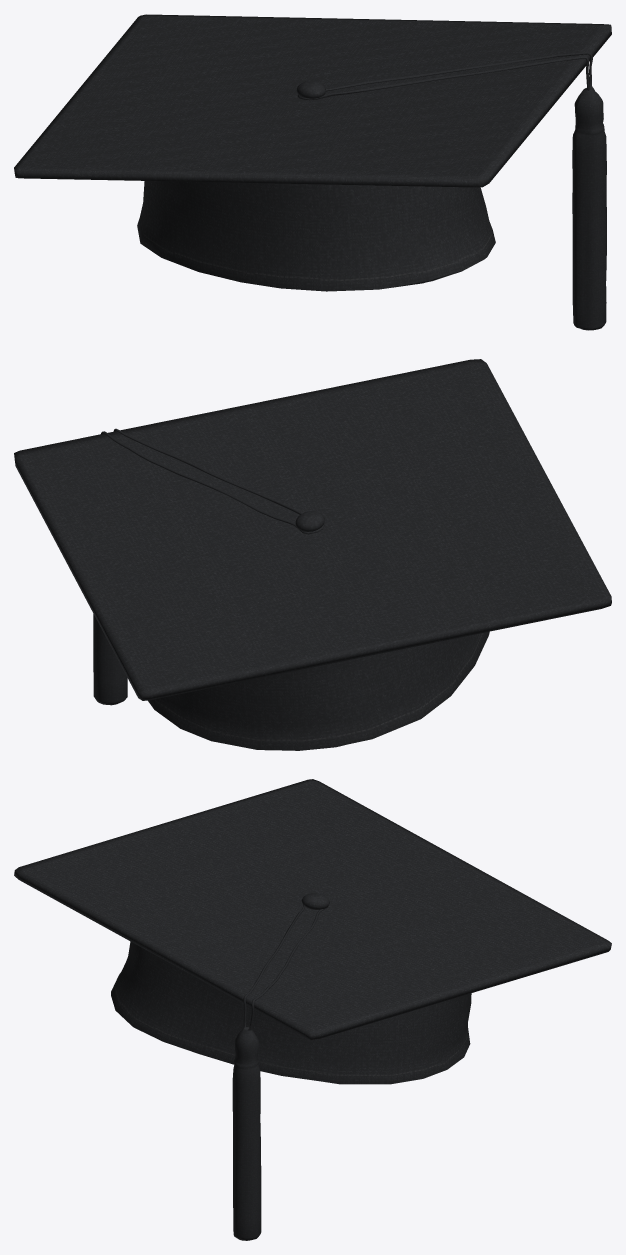
File: cap.glb
3 renders of one model, top to bottom at view 1: azimuth 30°, elevation 25°; view 2: azimuth 150°, elevation 25°; view 3: azimuth 270°, elevation 25°, orthographic. The views are drawn at different scales.
Visible parts, largest first — view 1: Button; view 2: Button; view 3: Button.
Part boxes in pixels (x1,y1,x2,y2): Button: (14, 14, 611, 330); Button: (14, 359, 611, 750); Button: (14, 779, 611, 1240).
Size of the model in its own units: 0.3823 by 0.1848 by 0.379.
1 material, 1 textured.
